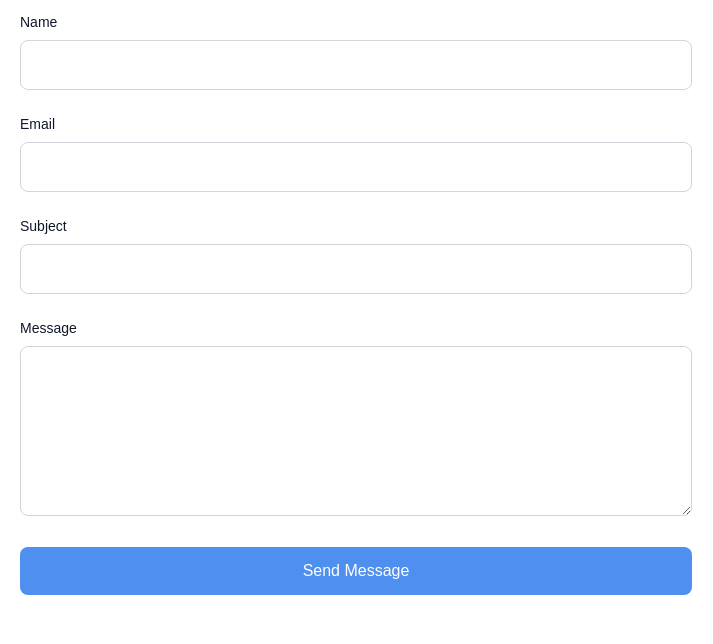
it: ContactForm Unit Tests › Form Validation › should display validation error for empty message field
Click the text box labelled "Message" at (356, 431), box [20,346,692,516]
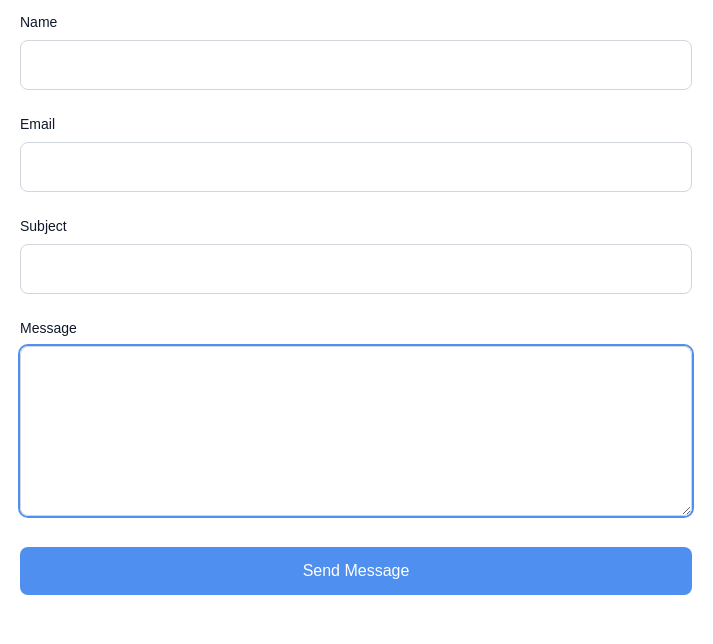
Press Tab
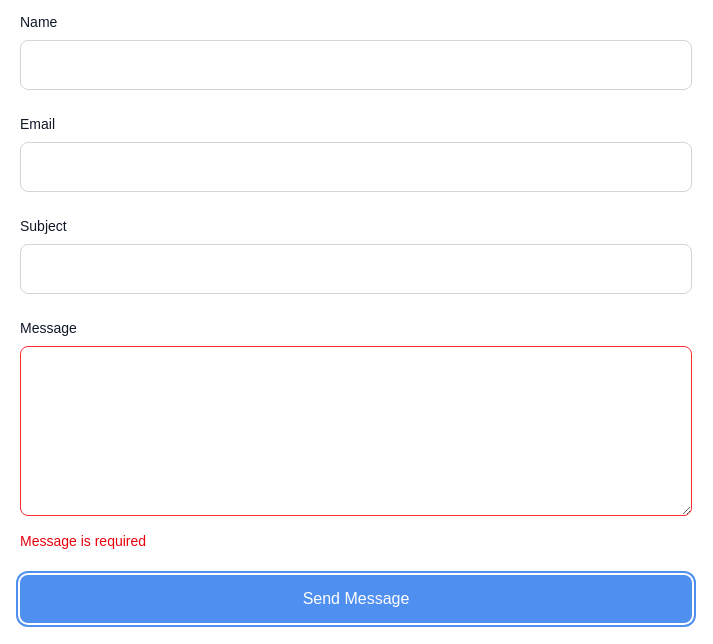
Check: the text "Message is required" is shown, box [20,533,146,549]
